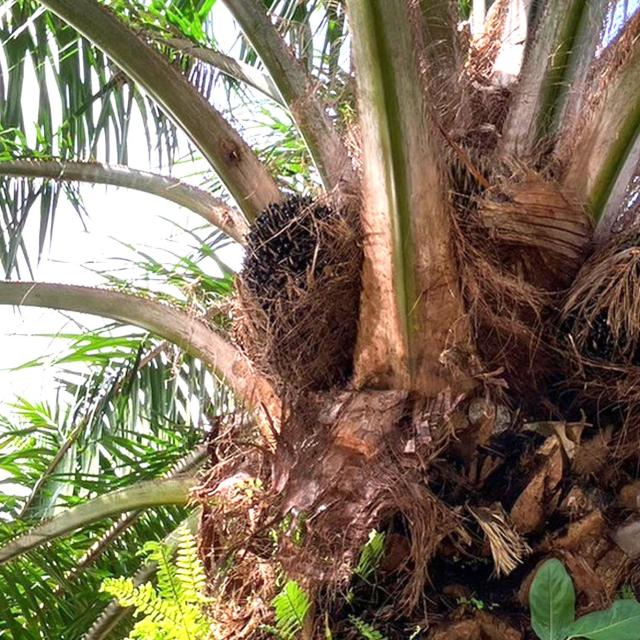unripe: (234, 194, 362, 381)
